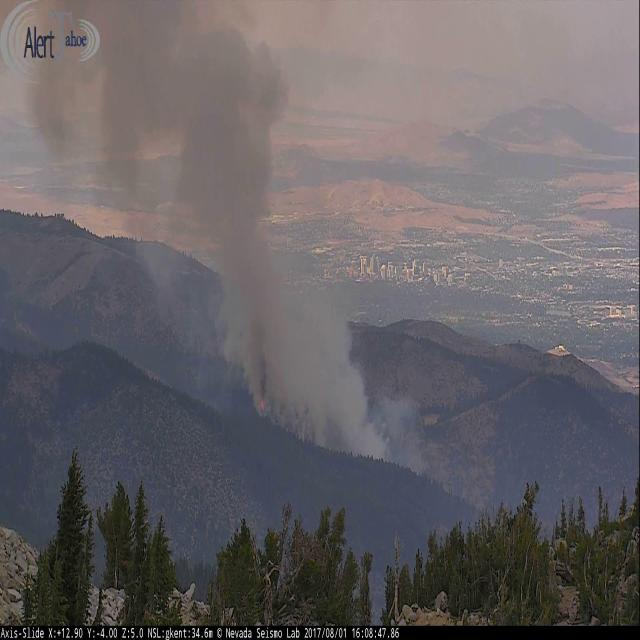smoke: (111, 4, 388, 474)
